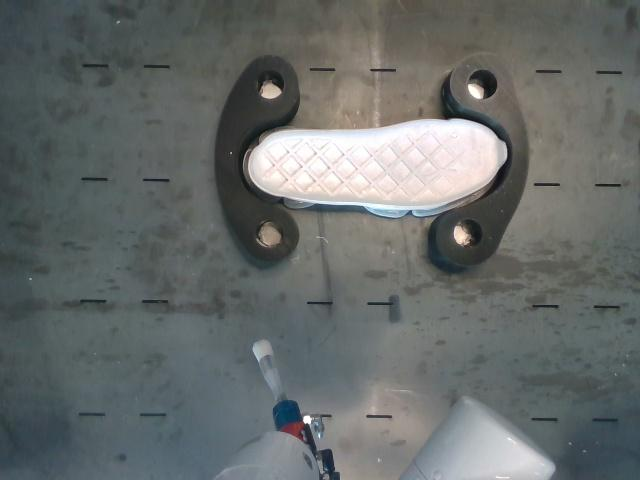shoes: (249, 119, 506, 207)
